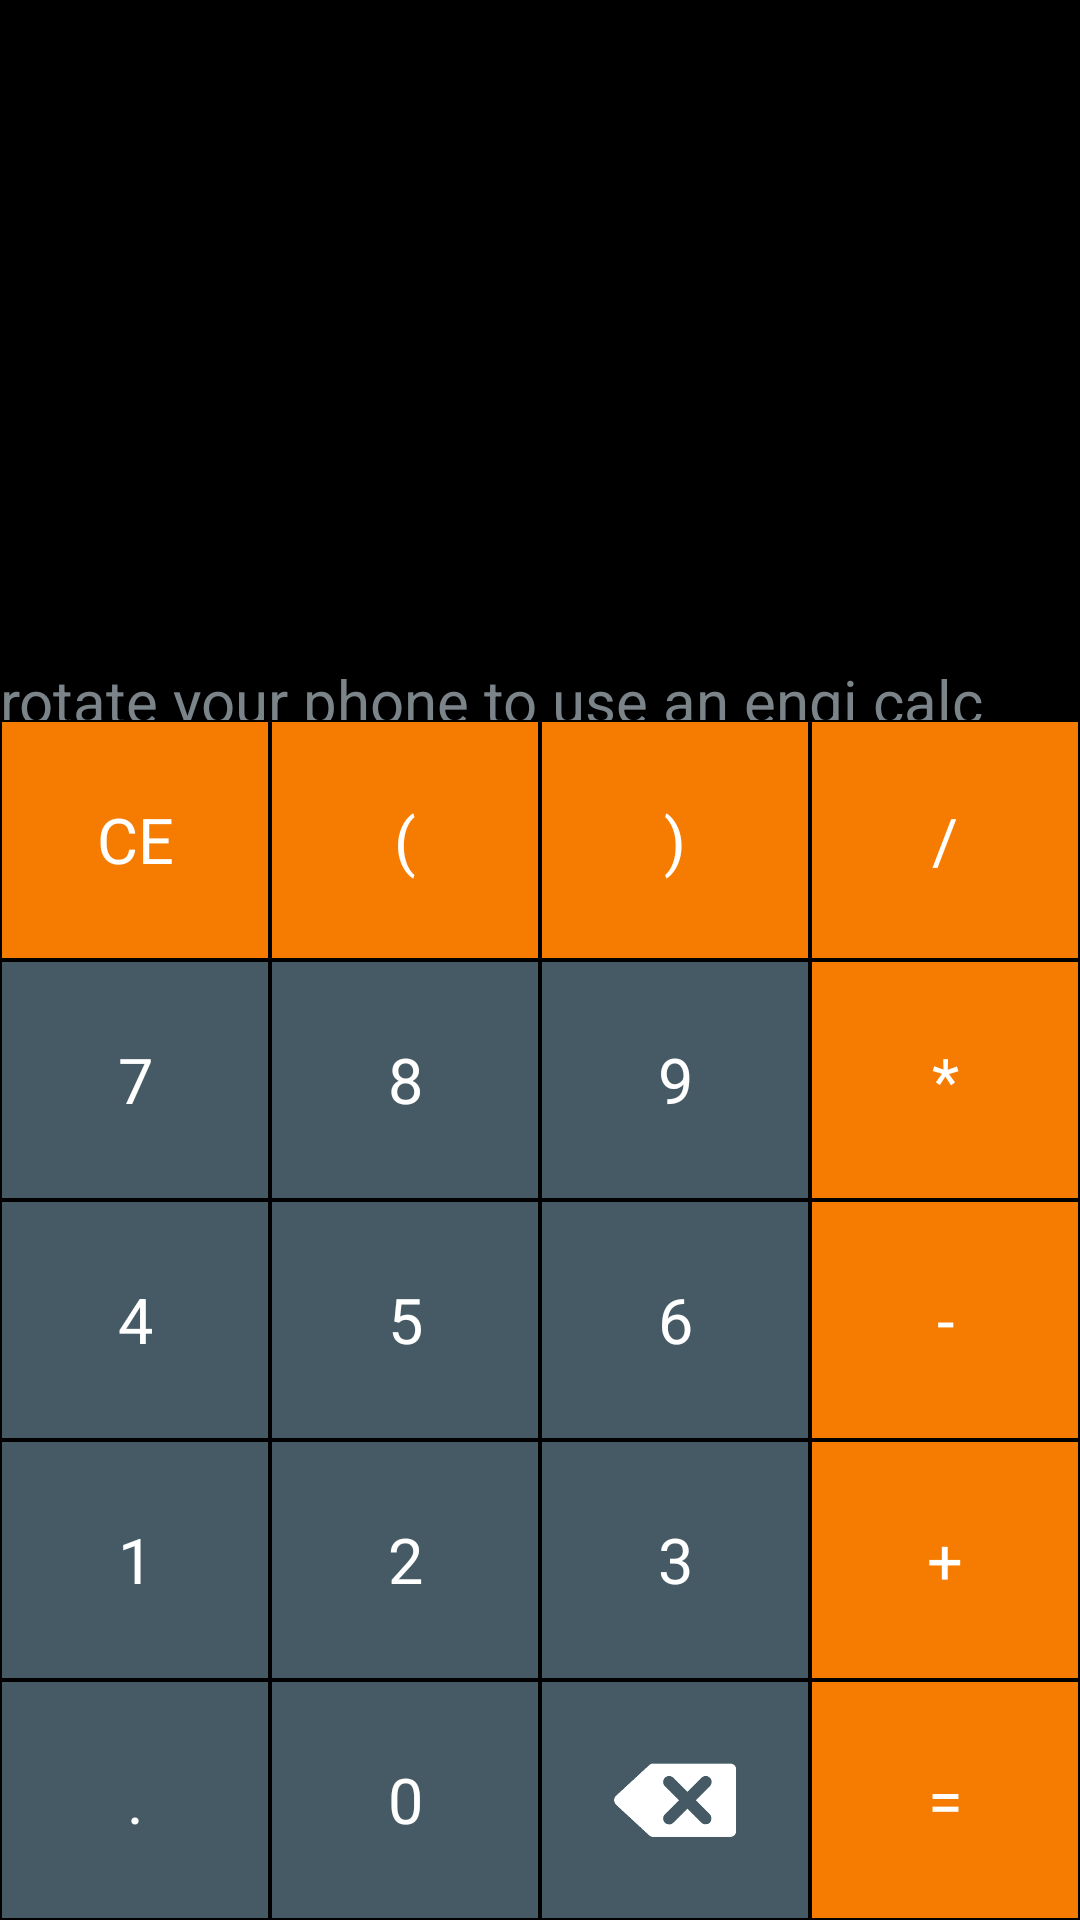

Locate icon controls on the screen. Image size 1080x1920, boxes as {"x1": x1, "y1": y1, "x2": x2, "y2": y2}.
bssmall: {"x1": 542, "y1": 1682, "x2": 808, "y2": 1918}
